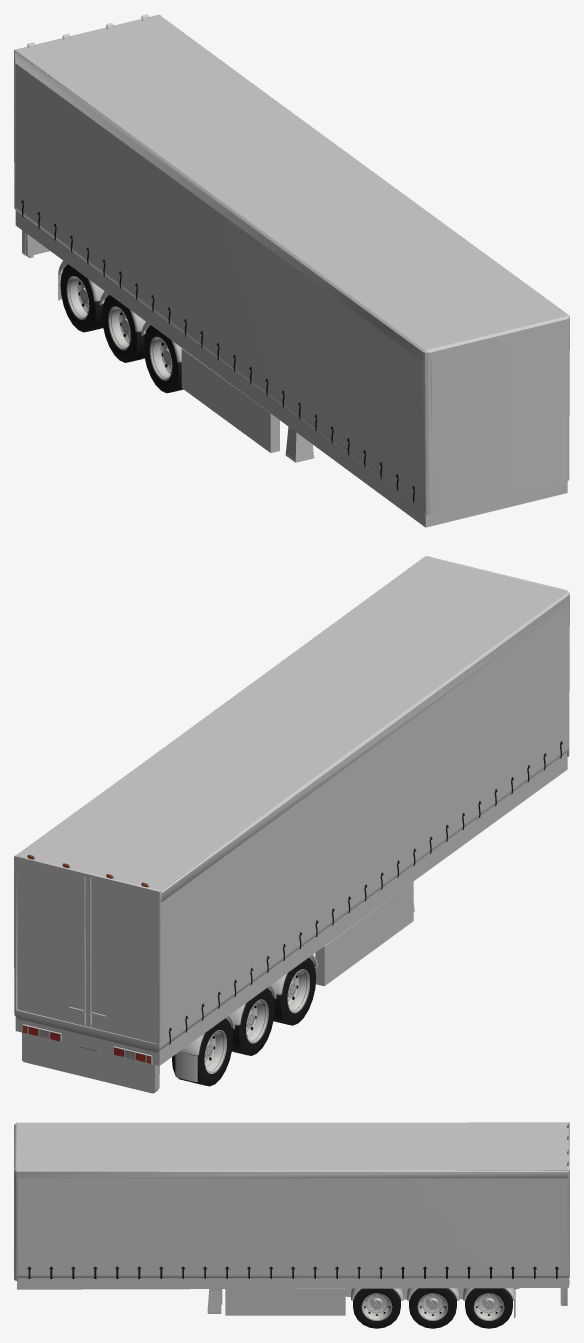
File: Trailer01.FBX
The picture shows the model from 3 angles, top to bottom: view 1: azimuth 30°, elevation 25°; view 2: azimuth 150°, elevation 25°; view 3: azimuth 270°, elevation 25°; orthographic projection. The views are drawn at different scales.
Visible parts, largest first — view 1: BodyTrailer_LOD0, Trailer1_Col, WheelRearRight3_LOD0, WheelRearRight2_LOD0, WheelRearRight1_LOD0; view 2: BodyTrailer_LOD0, Trailer1_Col, WheelRearRight2_LOD0, WheelRearRight1_LOD0, WheelRearRight3_LOD0; view 3: BodyTrailer_LOD0, Trailer1_Col, WheelRearLeft2_LOD0, WheelRearLeft3_LOD0, WheelRearLeft1_LOD0.
Boxes of the visible parts, x1=… form: BodyTrailer_LOD0: x1=14, y1=14, x2=569, y2=515; Trailer1_Col: x1=15, y1=16, x2=567, y2=527; WheelRearRight3_LOD0: x1=60, y1=264, x2=103, y2=332; WheelRearRight2_LOD0: x1=102, y1=295, x2=144, y2=362; WheelRearRight1_LOD0: x1=143, y1=325, x2=183, y2=393; BodyTrailer_LOD0: x1=14, y1=556, x2=569, y2=1093; Trailer1_Col: x1=15, y1=557, x2=567, y2=1089; WheelRearRight2_LOD0: x1=232, y1=988, x2=274, y2=1055; WheelRearRight1_LOD0: x1=273, y1=958, x2=316, y2=1025; WheelRearRight3_LOD0: x1=172, y1=1018, x2=232, y2=1086; BodyTrailer_LOD0: x1=14, y1=1122, x2=569, y2=1317; Trailer1_Col: x1=16, y1=1122, x2=568, y2=1315; WheelRearLeft2_LOD0: x1=409, y1=1288, x2=456, y2=1328; WheelRearLeft3_LOD0: x1=465, y1=1288, x2=512, y2=1328; WheelRearLeft1_LOD0: x1=353, y1=1288, x2=400, y2=1328.
Size of what is drawn, in the model's own units: 2257 by 3521 by 10889.
